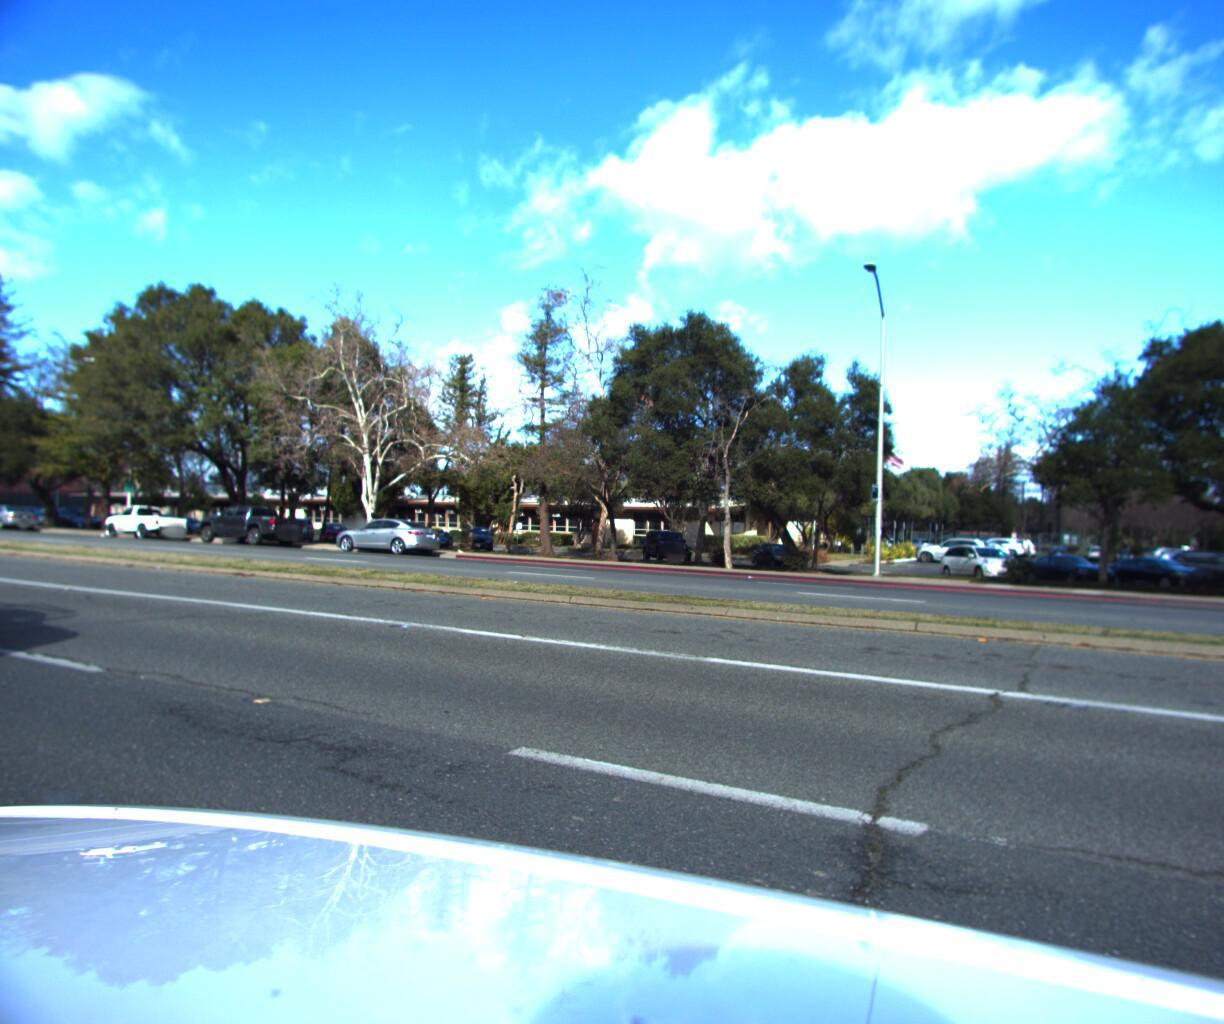car: (191, 504, 310, 555), (326, 517, 446, 562), (101, 505, 194, 548), (0, 373, 9, 721), (0, 504, 44, 537)
